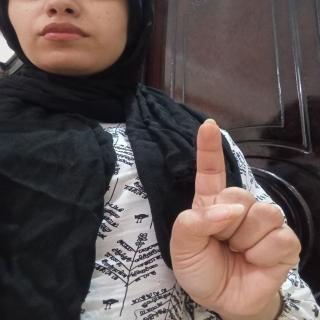BAA: (161, 117, 311, 320)
